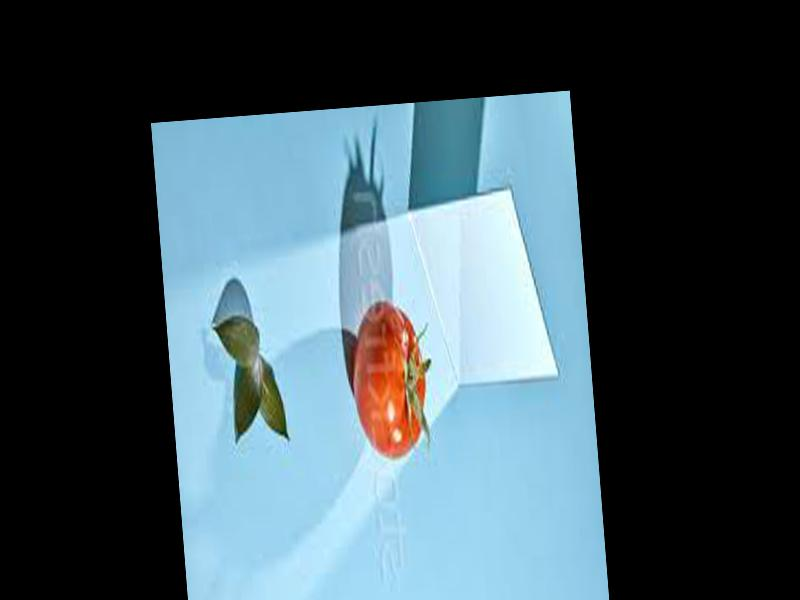Tomato: (346, 298, 432, 465)
